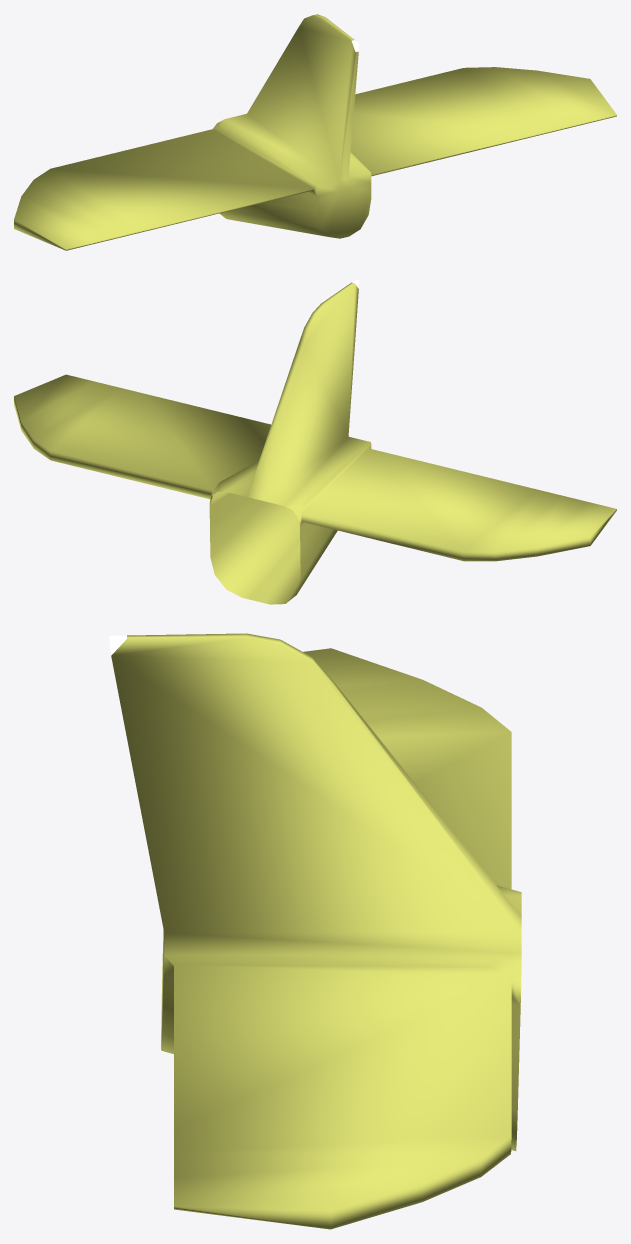
File: cessnagodottail.glb
3 views of the same model, one above another, from view 1: azimuth 30°, elevation 25°; view 2: azimuth 150°, elevation 25°; view 3: azimuth 270°, elevation 25° (orthographic). The views are drawn at different scales.
Parts seen in each view (by area): view 1: Fusalage.005; view 2: Fusalage.005; view 3: Fusalage.005.
Boxes of the visible parts, x1,y1,x2,y2 form: Fusalage.005: (14,14,616,250); Fusalage.005: (14,279,616,604); Fusalage.005: (109,633,521,1229).
Size of the model in its own units: 4.15 by 1.71 by 1.29.
